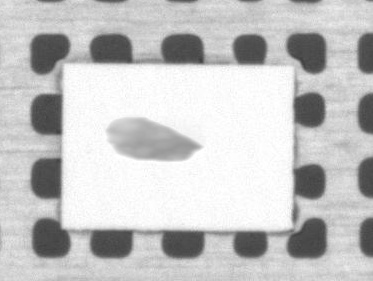DIE_INK: (104, 113, 203, 163)
